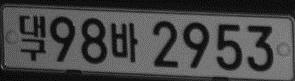2: (152, 20, 178, 68)
3: (246, 24, 274, 72)
5: (216, 23, 242, 71)
8: (81, 17, 107, 64)
9: (182, 21, 210, 68), (49, 16, 76, 62)
대구_V: (18, 14, 47, 62)
바: (110, 22, 138, 63)
